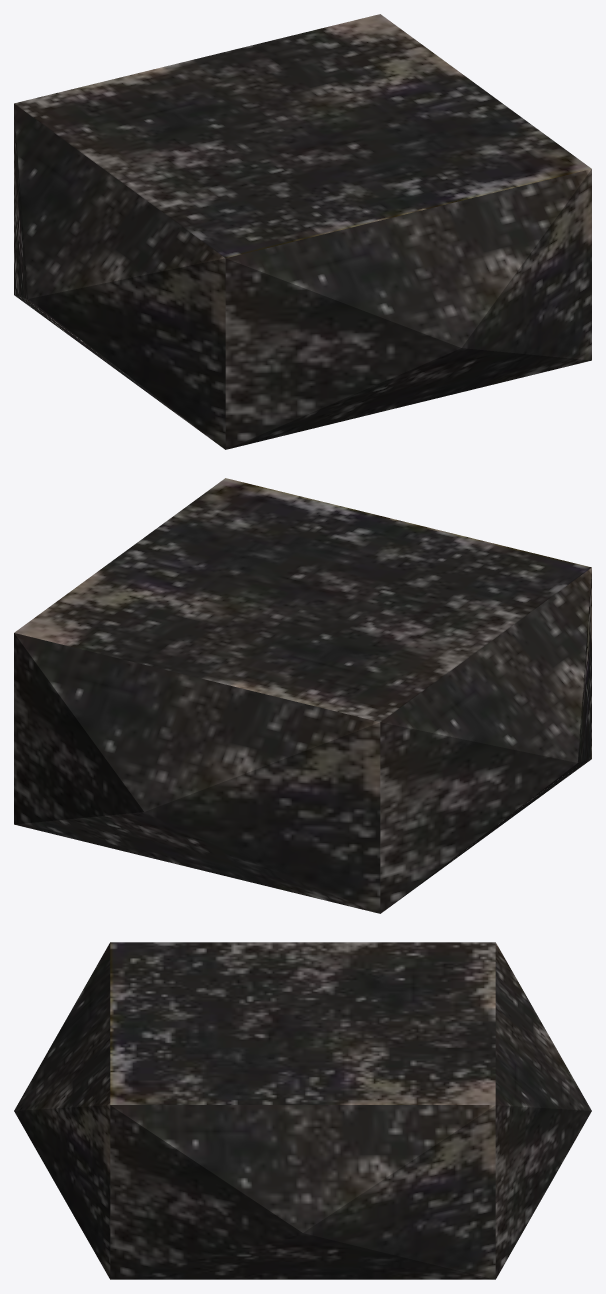
The model's file is ITMI_RUNEBLANK.glb.
The picture shows the model from 3 angles, top to bottom: view 1: azimuth 30°, elevation 25°; view 2: azimuth 150°, elevation 25°; view 3: azimuth 270°, elevation 25°; orthographic projection. The views are drawn at different scales.
Parts seen in each view (by area): view 1: ITMI_RUNEBLANK; view 2: ITMI_RUNEBLANK; view 3: ITMI_RUNEBLANK.
Boxes of the visible parts, box(x1,y1,x2,y2) form: ITMI_RUNEBLANK: box(14, 14, 591, 449); ITMI_RUNEBLANK: box(14, 478, 591, 913); ITMI_RUNEBLANK: box(14, 942, 591, 1279).
Bounding box in the file's own units: 0.27 × 0.09 × 0.27.
1 material, 1 textured.
